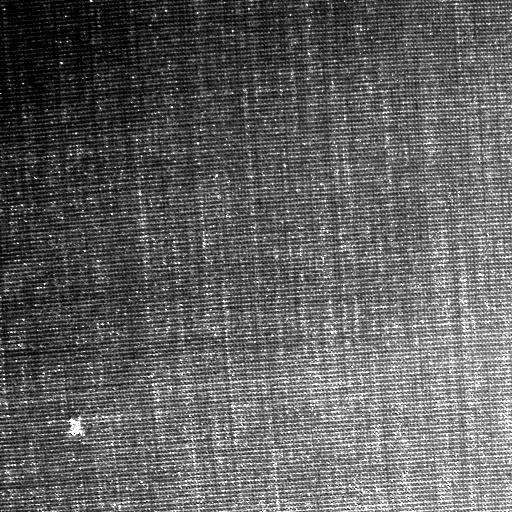fabric_hole: (65, 407, 91, 451)
